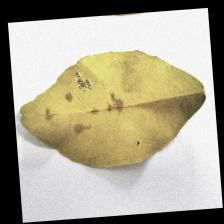canker: (28, 60, 132, 136)
